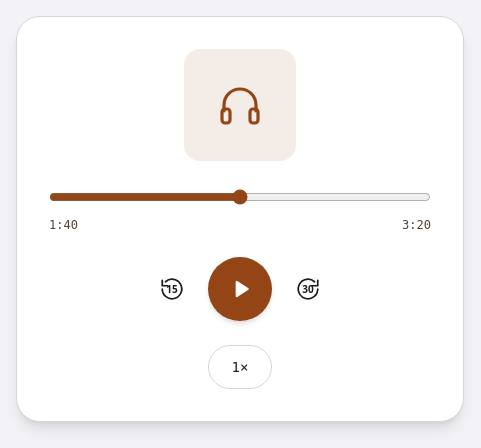
the audio player: moving through it › goes back 15 seconds and forward 30, and says where it got to
The width and height of the screenshot is (481, 448).
Click the button "30" at (308, 289), box [284,265,332,313]
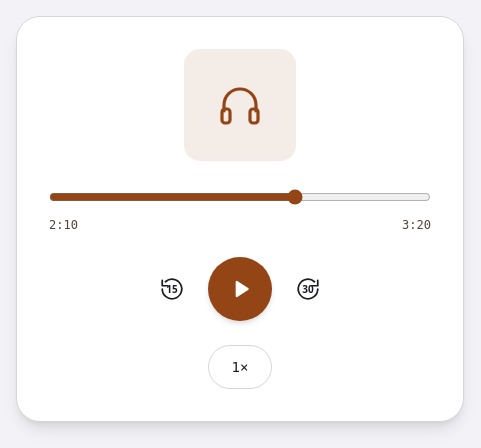
Click the button "15" at (172, 289), box [148,265,196,313]
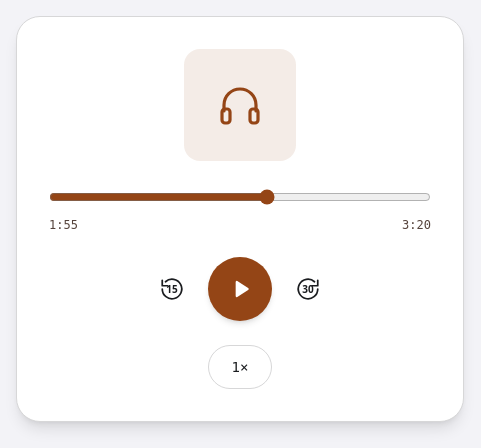
expect the text "1:55" is shown: met, box [49,217,78,233]
